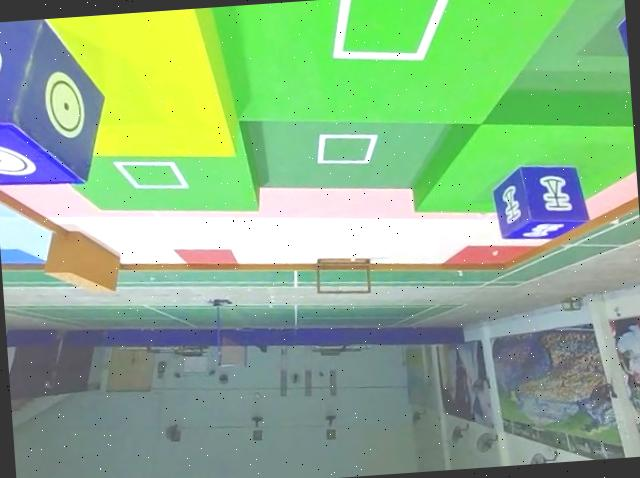R2 Real Blue: (0, 14, 110, 190), (490, 156, 592, 240), (613, 0, 631, 100)
